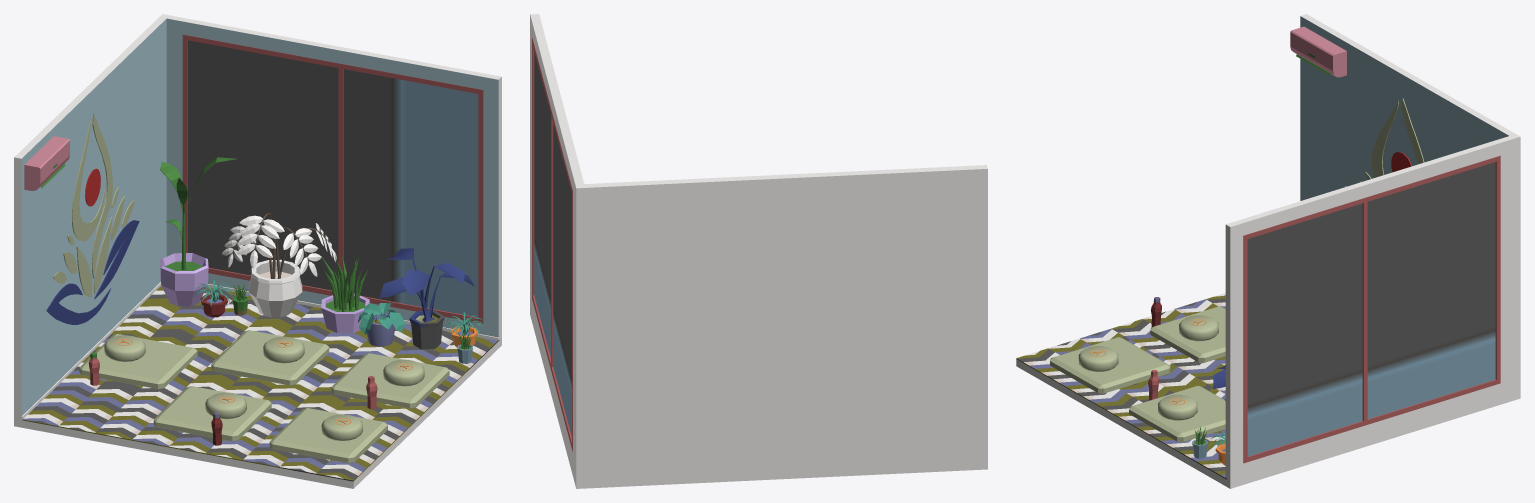
Rendered from Yogaroom.fbx.
3 renders of one model, left to right at view 1: azimuth 30°, elevation 25°; view 2: azimuth 150°, elevation 25°; view 3: azimuth 270°, elevation 25°, orthographic. The views are drawn at different scales.
Visible parts, largest first — view 1: Yogaroom_window, Yogaroom_base, Yogaroom_floor, Yogaroom_yoga_logo, Yogaroom_flower1, Yogaroom_rug2, Yogaroom_rug4, Yogaroom_flower2, Yogaroom_rug3, Yogaroom_rug1, Yogaroom_rug5, Yogaroom_flower9 (+10 smaller); view 2: Yogaroom_base, Yogaroom_window; view 3: Yogaroom_window, Yogaroom_base, Yogaroom_floor, Yogaroom_rug4, Yogaroom_rug5, Yogaroom_rug3, Yogaroom_airconditioning, Yogaroom_yoga_logo, Yogaroom_pillow1, Yogaroom_pillow2, Yogaroom_pillow3.
Part boxes in pixels (x1,y1,x2,y2): Yogaroom_window: (182, 34, 483, 323); Yogaroom_base: (14, 14, 501, 488); Yogaroom_floor: (22, 286, 499, 481); Yogaroom_yoga_logo: (46, 113, 139, 324); Yogaroom_flower1: (221, 213, 336, 317); Yogaroom_rug2: (211, 330, 329, 385); Yogaroom_rug4: (269, 408, 387, 463); Yogaroom_flower2: (160, 157, 236, 306); Yogaroom_rug3: (153, 386, 271, 441); Yogaroom_rug1: (79, 333, 197, 389); Yogaroom_rug5: (331, 353, 449, 408); Yogaroom_flower9: (379, 248, 474, 349); Yogaroom_base: (530, 14, 987, 488); Yogaroom_window: (532, 37, 572, 451); Yogaroom_window: (1243, 155, 1500, 463); Yogaroom_base: (1016, 14, 1520, 488); Yogaroom_floor: (1016, 293, 1226, 479); Yogaroom_rug4: (1050, 337, 1170, 393); Yogaroom_rug5: (1129, 385, 1225, 442); Yogaroom_rug3: (1150, 306, 1225, 362); Yogaroom_airconditioning: (1290, 26, 1346, 77); Yogaroom_yoga_logo: (1344, 98, 1424, 186); Yogaroom_pillow1: (1158, 394, 1197, 420); Yogaroom_pillow2: (1078, 346, 1118, 371); Yogaroom_pillow3: (1179, 315, 1218, 341).
Bounding box in the file's own units: 699 × 401 × 699.
